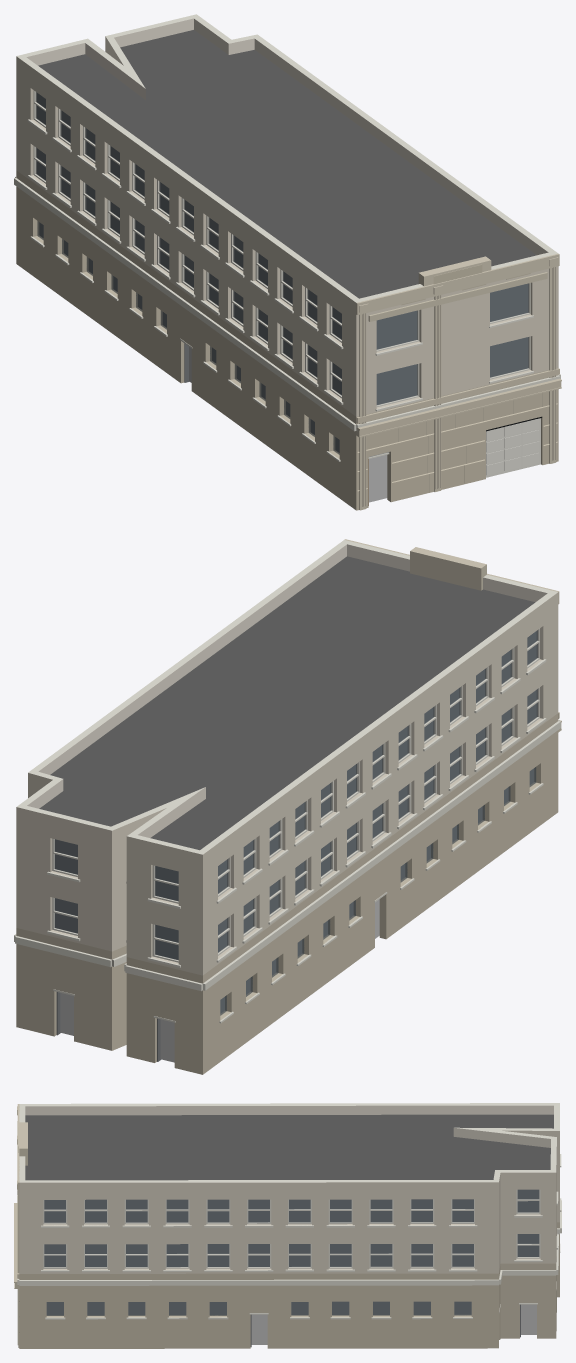
The model's file is exterior.glb.
3 views of the same model, one above another, from view 1: azimuth 30°, elevation 25°; view 2: azimuth 150°, elevation 25°; view 3: azimuth 270°, elevation 25° (orthographic). The views are drawn at different scales.
Parts seen in each view (by area): view 1: shell, roof, glazing, shadow-proxy, trim, relief-8, frames, storefront, front-dressing, hyD-rubble-8; view 2: shell, roof, glazing, shadow-proxy, trim, frames, relief-8; view 3: shell, roof, glazing, shadow-proxy, trim, frames, relief-8.
Part boxes in pixels (left/top/right/bottom): shell: left=16, top=14, right=558, bottom=510; roof: left=38, top=30, right=536, bottom=298; glazing: left=36, top=92, right=528, bottom=457; shadow-proxy: left=37, top=93, right=527, bottom=502; trim: left=14, top=119, right=561, bottom=461; relief-8: left=356, top=253, right=559, bottom=510; frames: left=33, top=90, right=530, bottom=407; storefront: left=180, top=338, right=542, bottom=505; front-dressing: left=356, top=272, right=559, bottom=423; hyD-rubble-8: left=357, top=393, right=557, bottom=491; shell: left=16, top=540, right=558, bottom=1074; roof: left=39, top=556, right=534, bottom=850; glazing: left=54, top=630, right=537, bottom=1015; shadow-proxy: left=55, top=631, right=536, bottom=1062; trim: left=14, top=659, right=561, bottom=1023; frames: left=52, top=628, right=539, bottom=962; relief-8: left=344, top=539, right=559, bottom=604; shell: left=19, top=1103, right=559, bottom=1348; roof: left=25, top=1114, right=553, bottom=1180; glazing: left=44, top=1189, right=539, bottom=1315; shadow-proxy: left=44, top=1190, right=538, bottom=1344; trim: left=14, top=1154, right=561, bottom=1319; frames: left=43, top=1189, right=540, bottom=1268; relief-8: left=17, top=1104, right=27, bottom=1347.
Size of the model in its own units: 11.2 by 11.14 by 31.8.
